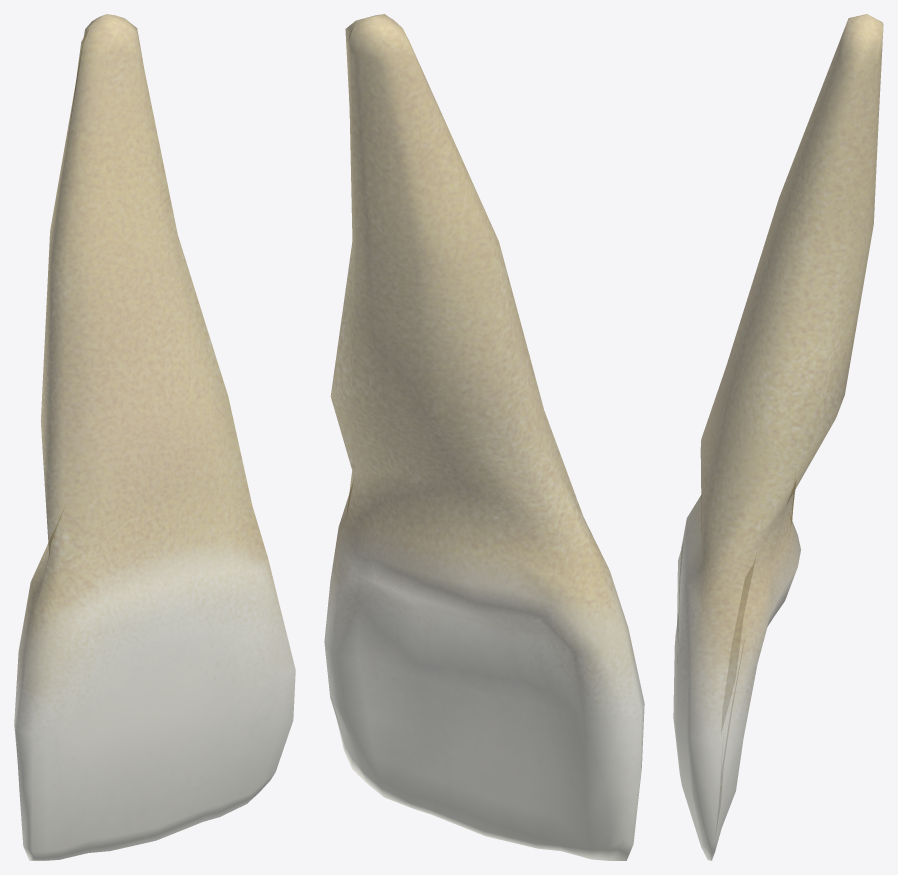
File: Human Teeth Upper Central Incisor.gltf
The picture shows the model from 3 angles, left to right: view 1: azimuth 30°, elevation 25°; view 2: azimuth 150°, elevation 25°; view 3: azimuth 270°, elevation 25°; orthographic projection. The views are drawn at different scales.
Visible parts, largest first — view 1: human_teeth_upper_central_incisor_geo; view 2: human_teeth_upper_central_incisor_geo; view 3: human_teeth_upper_central_incisor_geo.
Part boxes in pixels (x1,y1,x2,y2): human_teeth_upper_central_incisor_geo: (14,14,295,860); human_teeth_upper_central_incisor_geo: (324,14,644,860); human_teeth_upper_central_incisor_geo: (673,14,883,860).
Bounding box in the file's own units: 2.04 × 5.39 × 1.24.
1 material, 1 textured.
